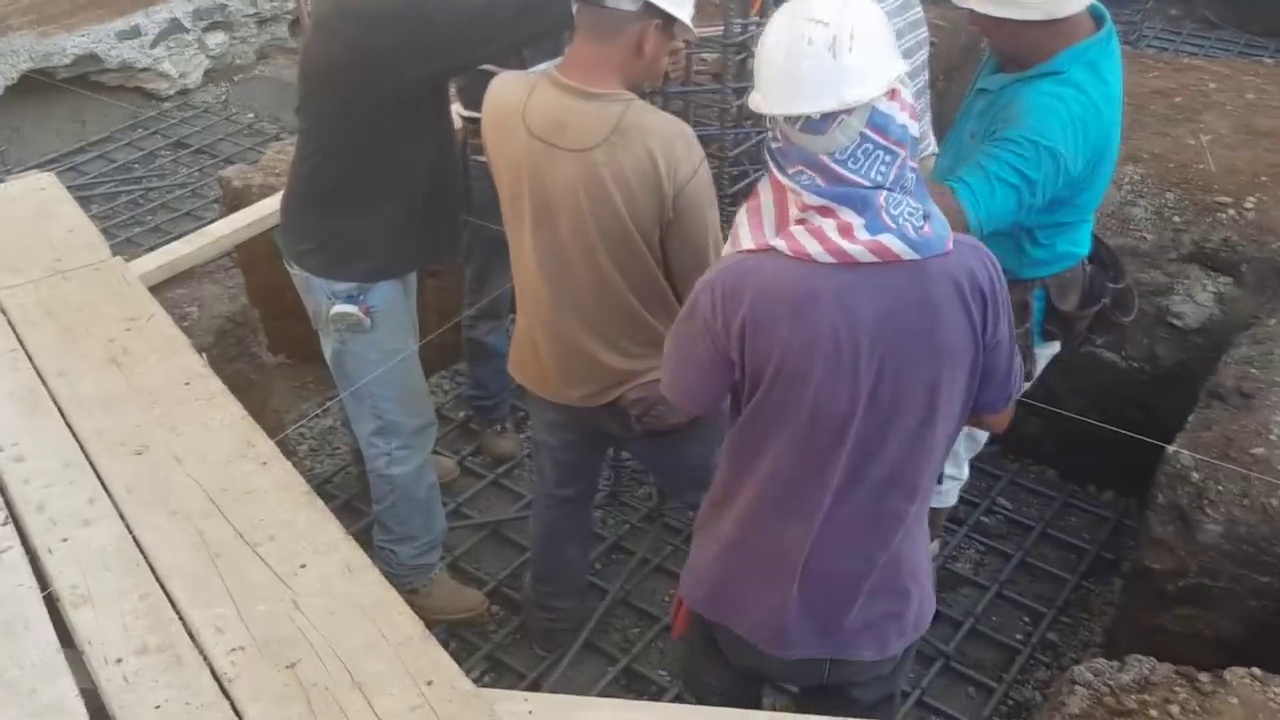helmet: (748, 0, 912, 133)
helmet-off: (530, 0, 699, 104), (979, 3, 1114, 77)
helmet-on: (747, 2, 925, 224)
person: (654, 0, 1034, 720), (483, 1, 730, 670), (269, 0, 525, 640), (920, 0, 1130, 397)
